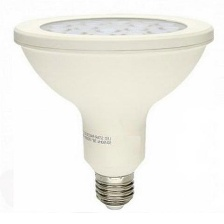light_bulb: (8, 9, 214, 216)
